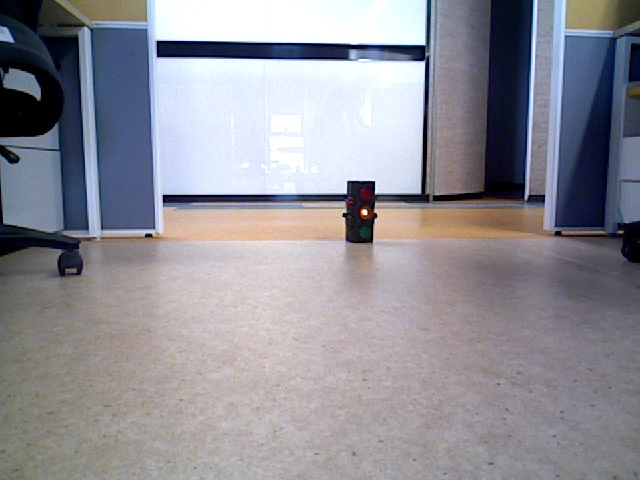yellow: (347, 181, 371, 241)
